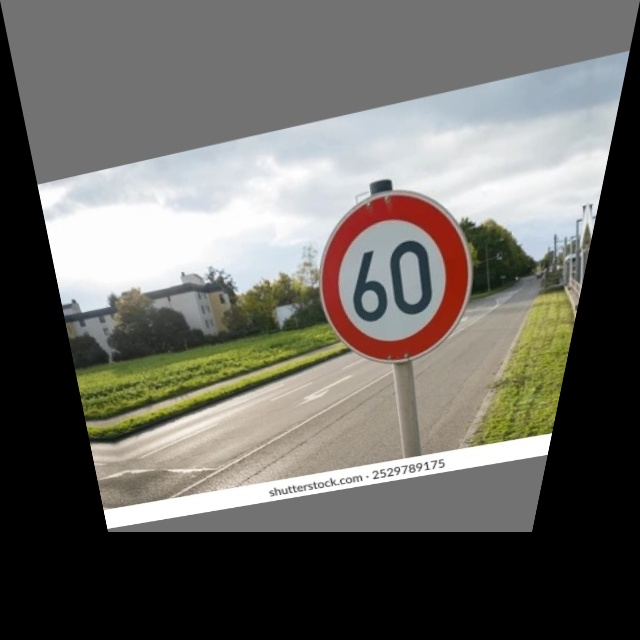Speed_Limit_60: (300, 175, 499, 371)
